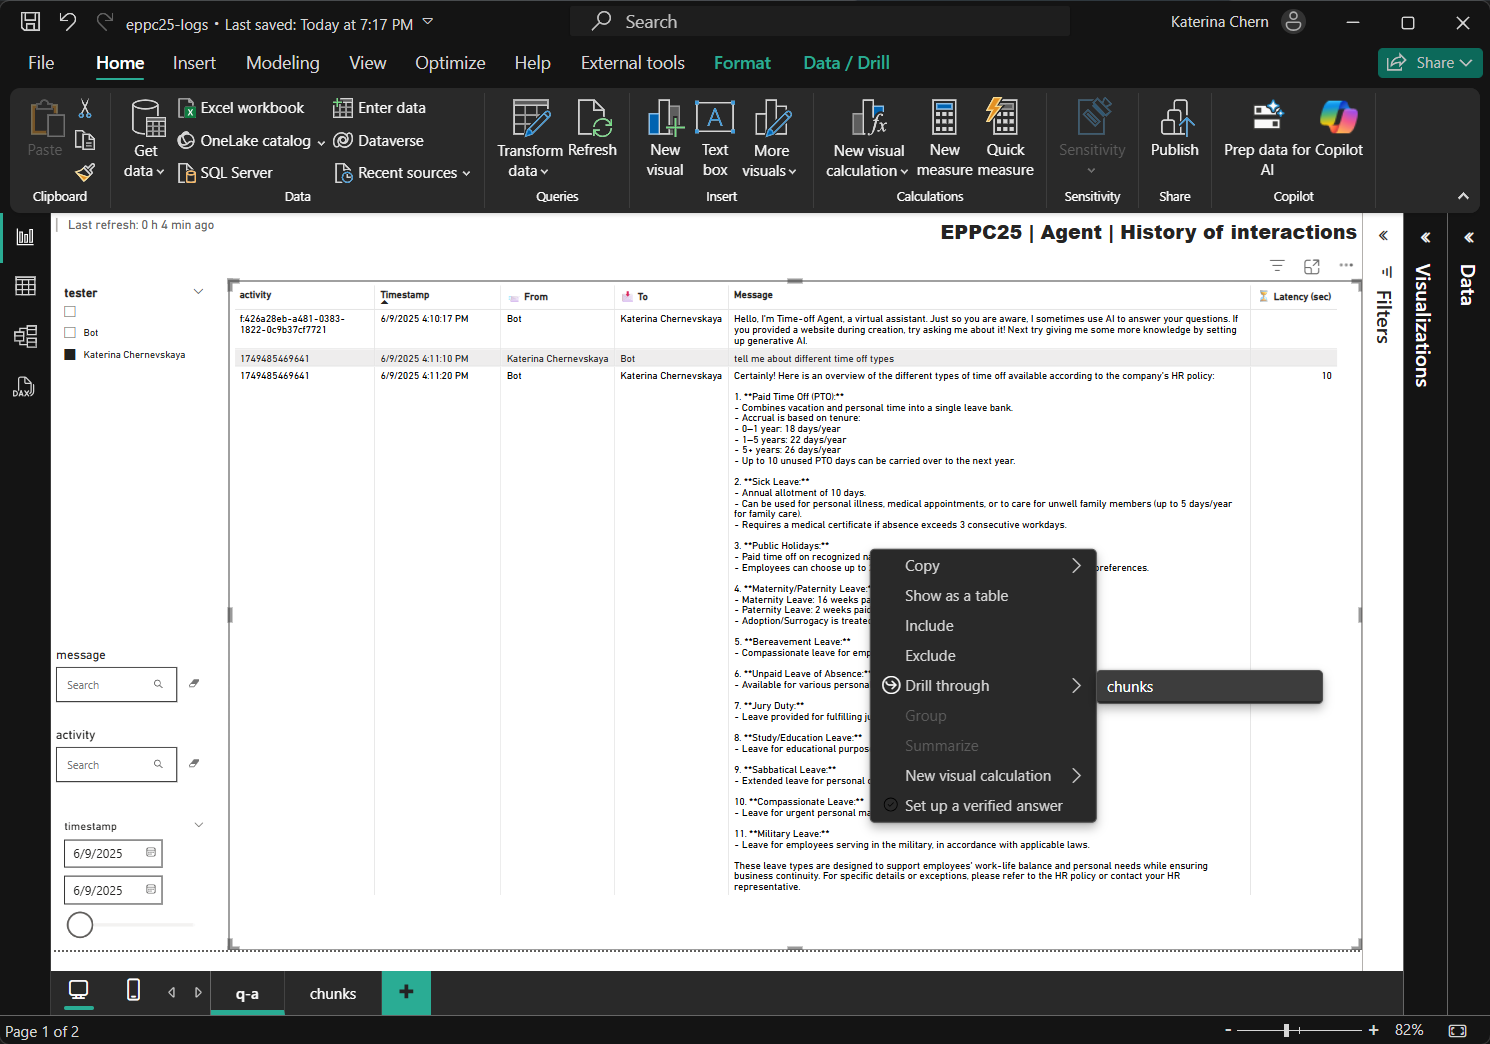

The page's visual inventory and layout, read from the dashboard file:
{"tool":"powerbi","page":{"name":"q-a","canvas":[1280,720],"ordinal":0},"visuals":[{"type":"tableEx","fields":{"Values":["history.activity","history.timestamp","history.from","history.to","Min(history.message)","history.TimeDifference"]},"box":[172.8,65.6,1107.4,654.7],"z":0},{"type":"multiRowCard","fields":{"Values":["last-refresh.Since refresh"]},"box":[0,0,195.8,51.4],"z":1000},{"type":"textbox","box":[252.4,0,1027.8,51.6],"z":2000},{"type":"textFilter25A4896A83E0487089E2B90C9AE57C8A","fields":{"field":["history.message"]},"box":[0,424.6,161.9,78.6],"z":3000},{"type":"slicer","fields":{"Values":["history.timestamp"]},"box":[0,586.5,161.9,133.3],"z":4000},{"type":"textFilter25A4896A83E0487089E2B90C9AE57C8A","fields":{"field":["history.activity"]},"box":[0,503.2,161.9,83.3],"z":5000},{"type":"slicer","fields":{"Values":["history.tester"]},"box":[0,65.9,162.3,122],"z":6000}]}

Visuals, with their boxes on the page's 1280x720 design canvas (x1, y1, x2, y2). These are canvas units, not pixel positions in the 1490x1044 screenshot, which may show the page scaled, cropped or inside an application window:
tableEx - history.activity x history.timestamp: select_region(173, 66, 1280, 720)
multiRowCard - last-refresh.Since refresh: select_region(0, 0, 196, 51)
textbox: select_region(252, 0, 1280, 52)
textFilter25A4896A83E0487089E2B90C9AE57C8A - history.message: select_region(0, 425, 162, 503)
slicer - history.timestamp: select_region(0, 586, 162, 720)
textFilter25A4896A83E0487089E2B90C9AE57C8A - history.activity: select_region(0, 503, 162, 586)
slicer - history.tester: select_region(0, 66, 162, 188)
